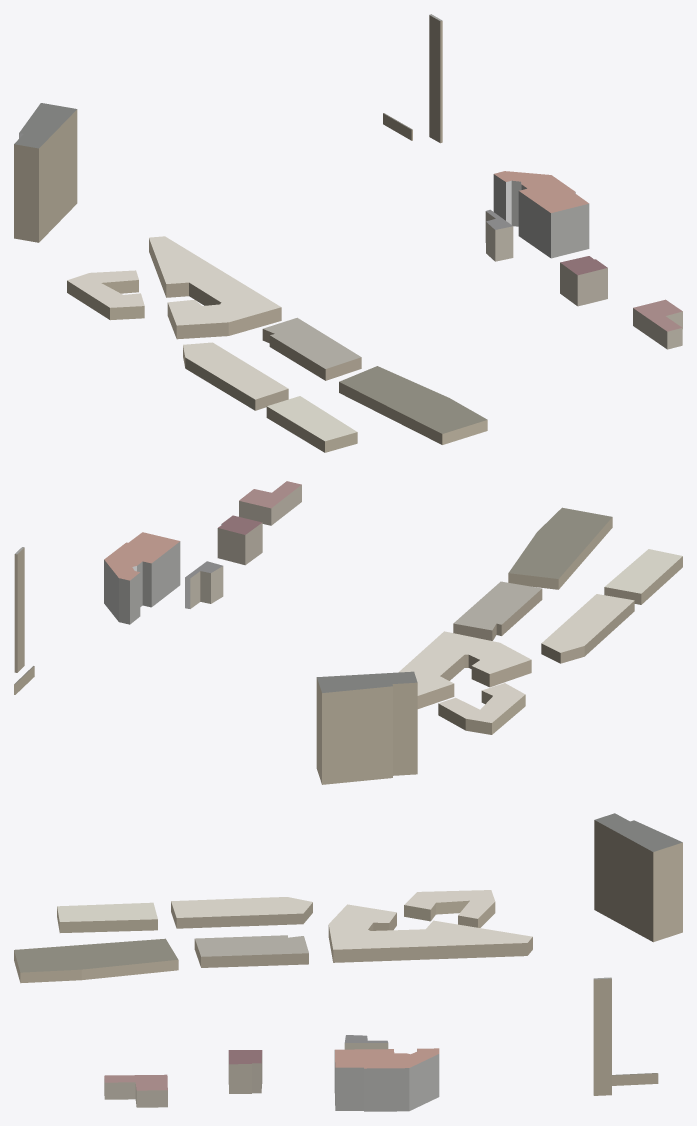
3 views of the same model, one above another, from view 1: azimuth 30°, elevation 25°; view 2: azimuth 150°, elevation 25°; view 3: azimuth 270°, elevation 25° (orthographic). The views are drawn at different scales.
Parts seen in each view (by area): view 1: tuile; view 2: tuile; view 3: tuile.
Boxes of the visible parts, x1,y1,x2,y2 form: tuile: [14, 14, 682, 452]; tuile: [14, 481, 682, 784]; tuile: [14, 813, 682, 1111].
Size of the model in its own units: 207 by 59.83 by 284.
